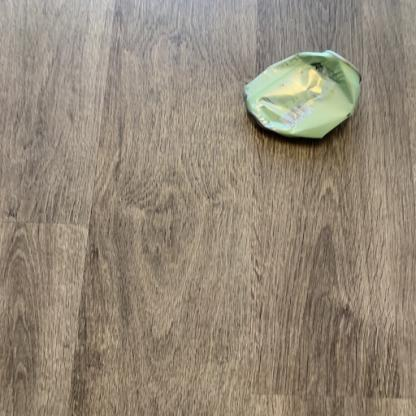trash: (216, 23, 376, 159)
